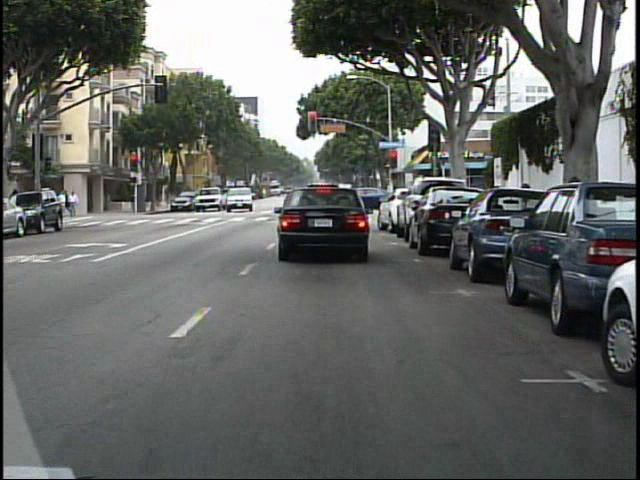person: (68, 189, 83, 217), (68, 187, 69, 218)
